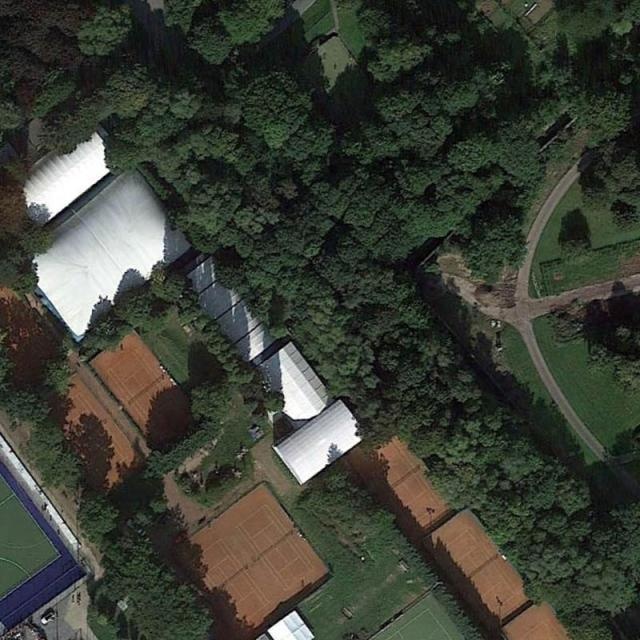vehicle: (42, 610, 58, 626), (491, 318, 502, 329)
